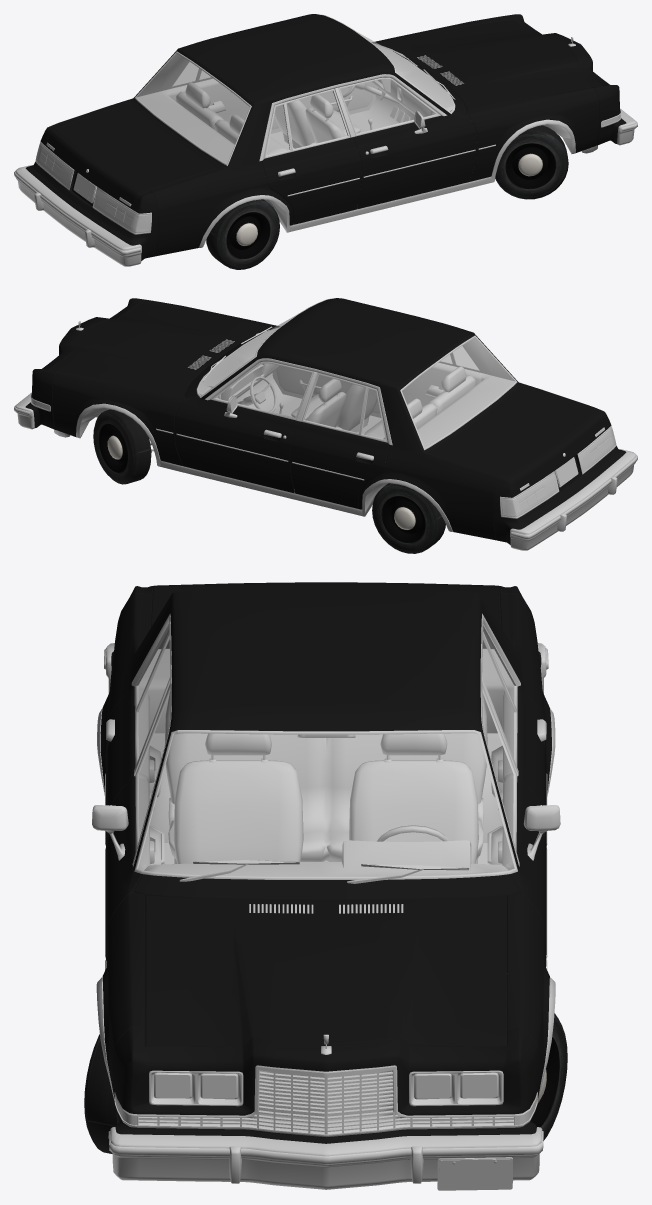
The model's file is Negotiator80.fbx.
The picture shows the model from 3 angles, top to bottom: view 1: azimuth 30°, elevation 25°; view 2: azimuth 150°, elevation 25°; view 3: azimuth 270°, elevation 25°; orthographic projection. The views are drawn at different scales.
Visible parts, largest first — view 1: Body, Hood, Trunk_door, Door_FR, Glass_back, Door_RR, Interior, Seats, Wheel_FR, Body_chrome, Wheel_RR, Bumper_Rear (+18 smaller); view 2: Body, Hood, Trunk_door, Door_FL, Glass_back, Door_RL, Interior, Seats, Body_chrome, Wheel_RL, Wheel_FL, Bumper_Rear (+18 smaller); view 3: Body, Hood, Windshield, Seats, Front_plate, Bumper_Front, Grill, Dashboard, Interior, Windows_trim, Body_chrome, Headlight_glass (+22 smaller).
Part boxes in pixels (x1,y1,x2,y2): Body: (58, 14, 599, 256); Hood: (378, 20, 602, 110); Trunk_door: (46, 103, 217, 209); Door_FR: (354, 110, 477, 209); Glass_back: (136, 53, 249, 163); Door_RR: (262, 137, 361, 224); Interior: (136, 53, 451, 163); Seats: (176, 82, 360, 155); Wheel_FR: (495, 125, 568, 199); Body_chrome: (198, 74, 575, 247); Wheel_RR: (206, 199, 279, 269); Bumper_Rear: (14, 165, 141, 266); Body: (52, 298, 593, 540); Hood: (49, 304, 273, 394); Trunk_door: (434, 387, 605, 493); Door_FL: (174, 394, 297, 493); Glass_back: (402, 337, 515, 447); Door_RL: (290, 421, 389, 508); Interior: (200, 337, 515, 447); Seats: (291, 366, 475, 439); Body_chrome: (76, 358, 453, 531); Wheel_RL: (372, 483, 445, 553); Wheel_FL: (93, 409, 151, 484); Bumper_Rear: (510, 449, 637, 550); Body: (100, 587, 551, 1099); Hood: (145, 895, 507, 1046); Windshield: (138, 733, 514, 876); Seats: (165, 692, 487, 863); Front_plate: (113, 1027, 539, 1143); Bumper_Front: (108, 1127, 543, 1190); Grill: (114, 1065, 537, 1137); Dashboard: (144, 840, 508, 876); Interior: (138, 649, 514, 870); Windows_trim: (134, 730, 517, 883); Body_chrome: (96, 613, 555, 1101); Headlight_glass: (154, 1072, 498, 1099).
Bounding box in the file's own units: 194 × 76.14 × 54.2.
